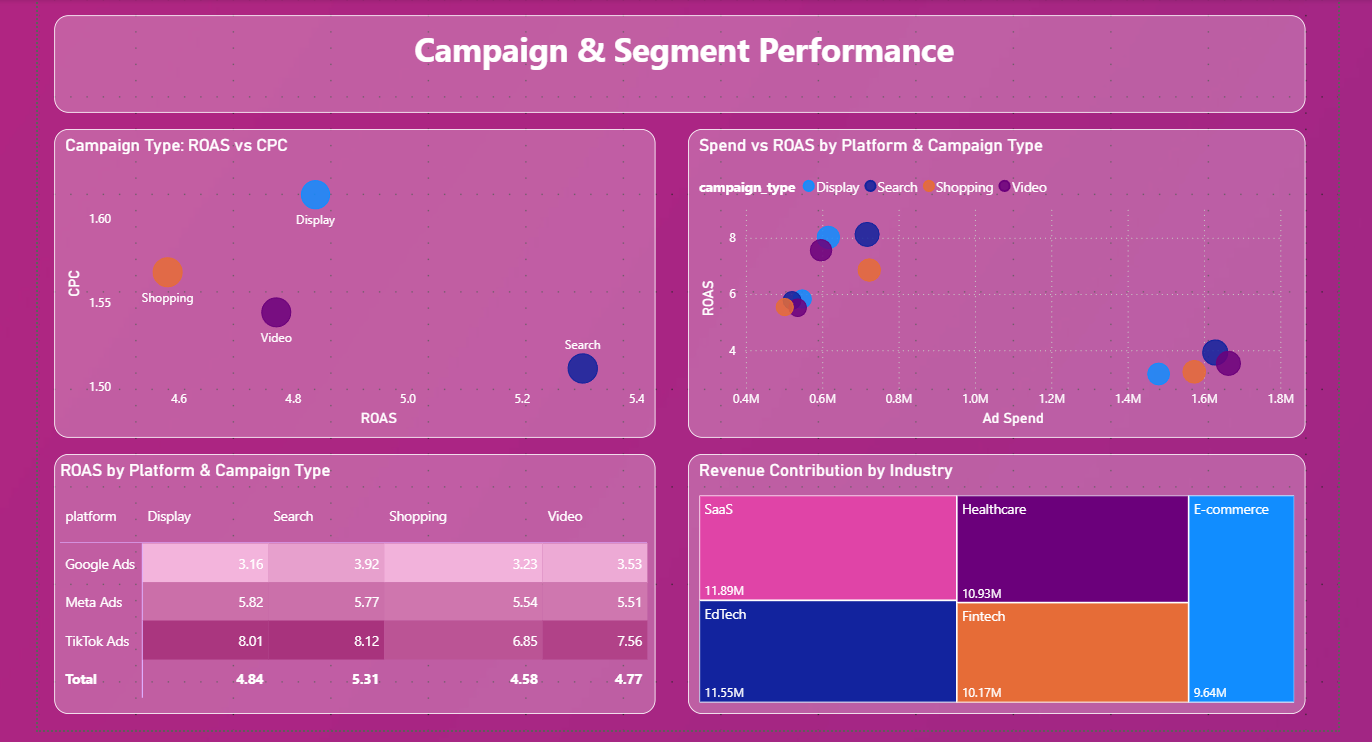

Layout of this report page (visuals, bound fields, positions):
{"tool":"powerbi","page":{"name":"Campaign & Segment Performance","canvas":[1280,720],"ordinal":1},"visuals":[{"type":"textbox","box":[16,16,1232,96],"z":0},{"type":"scatterChart","title":"Campaign Type: ROAS vs CPC","fields":{"X":["global_ads_performance_prepared.ROAS Measure"],"Y":["global_ads_performance_prepared.CPC Measure"],"Size":["global_ads_performance_prepared.Total Ad Spend"],"Series":["global_ads_performance_prepared.campaign_type"]},"box":[16,128,592,304],"z":1000},{"type":"treemap","title":"Revenue Contribution by Industry","fields":{"Details":["global_ads_performance_prepared.industry"],"Values":["global_ads_performance_prepared.Total Revenue"]},"box":[640,448,608,256],"z":2000},{"type":"pivotTable","title":"ROAS by Platform & Campaign Type","fields":{"Rows":["global_ads_performance_prepared.platform"],"Columns":["global_ads_performance_prepared.campaign_type"],"Values":["global_ads_performance_prepared.ROAS Measure"]},"box":[16,448,592,256],"z":3000},{"type":"scatterChart","title":"Spend vs ROAS by Platform & Campaign Type","fields":{"X":["global_ads_performance_prepared.Total Ad Spend"],"Y":["global_ads_performance_prepared.ROAS Measure"],"Category":["global_ads_performance_prepared.platform"],"Series":["global_ads_performance_prepared.campaign_type"],"Size":["global_ads_performance_prepared.Total Revenue"]},"box":[640,128,608,304],"z":4000}]}

Visuals, with their boxes in screenshot pixels (x1, y1, x2, y2):
textbox: x1=48, y1=13, x2=1303, y2=110
"Campaign Type: ROAS vs CPC" scatterChart: x1=48, y1=127, x2=651, y2=436
"Revenue Contribution by Industry" treemap: x1=684, y1=452, x2=1303, y2=713
"ROAS by Platform & Campaign Type" pivotTable: x1=48, y1=452, x2=651, y2=713
"Spend vs ROAS by Platform & Campaign Type" scatterChart: x1=684, y1=127, x2=1303, y2=436
